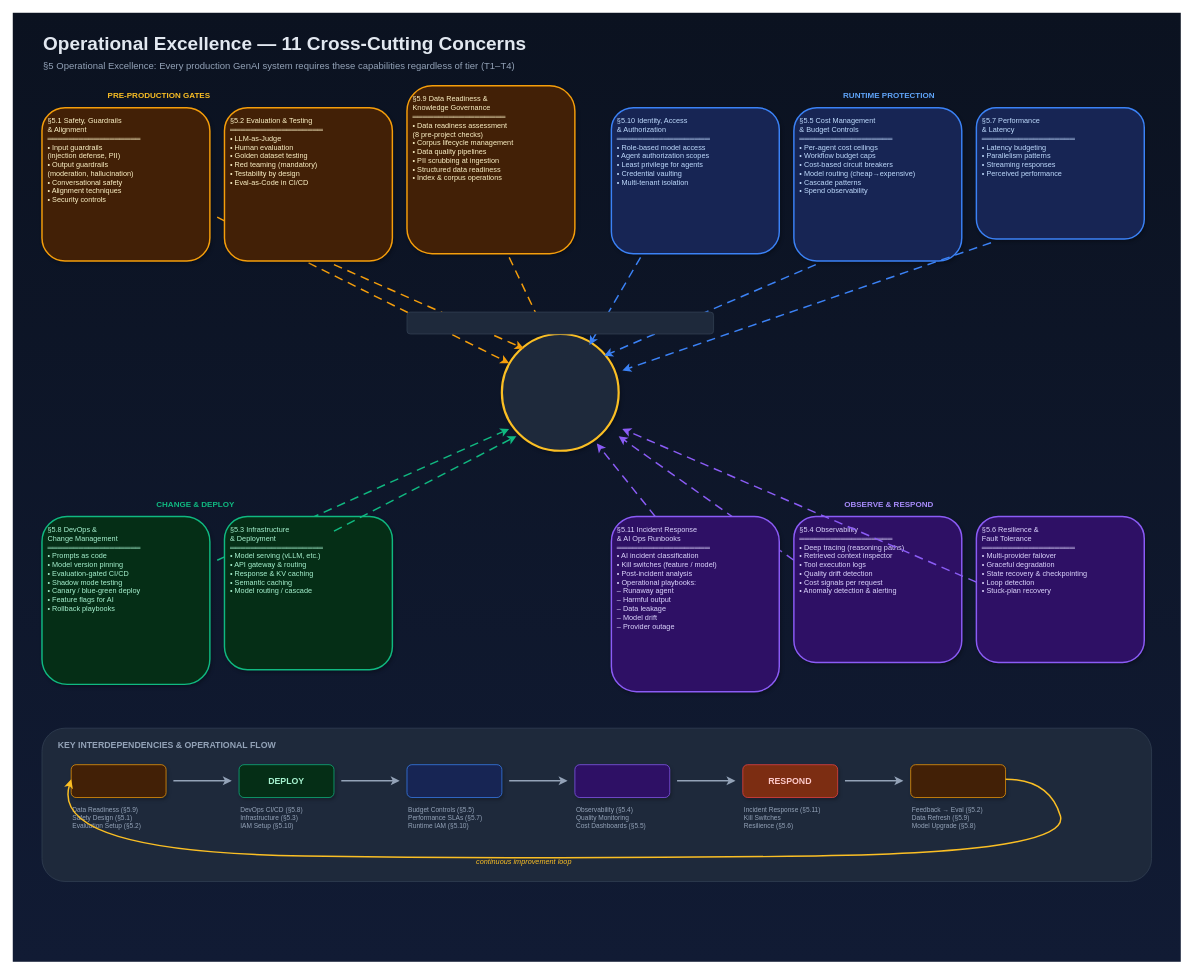
This 1193x974 diagram has some shape labels left out. Here are the shapes that lost their labels. From the top down, the centre of each, then its label:
(x=560, y=322): Applies to ALL tiers (T1–T4) · Enables: F5, F7, F8, F9, F11, F12, F13, F14, F15
(x=560, y=393): PRODUCTION GenAI SYSTEM
(x=119, y=782): BUILD
(x=454, y=782): PROTECT
(x=622, y=782): OBSERVE
(x=958, y=782): IMPROVE
